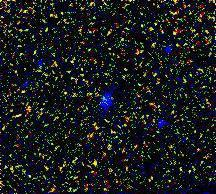star: (75, 141, 105, 171)
